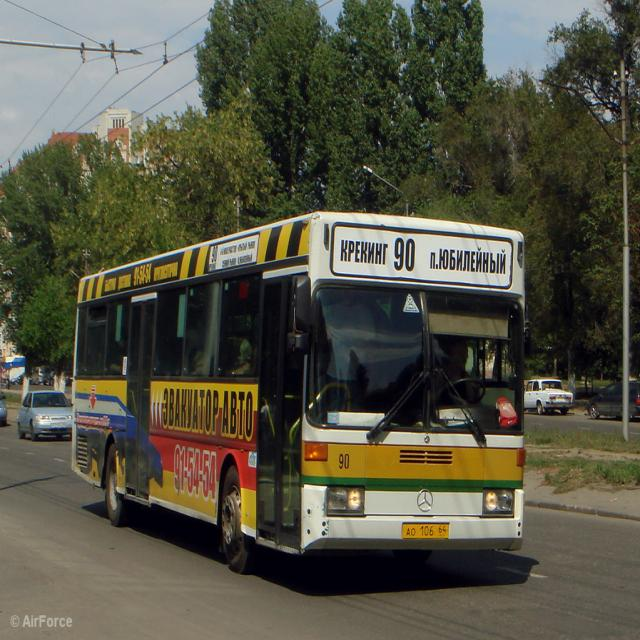number-of-bus: (393, 229, 416, 276)
